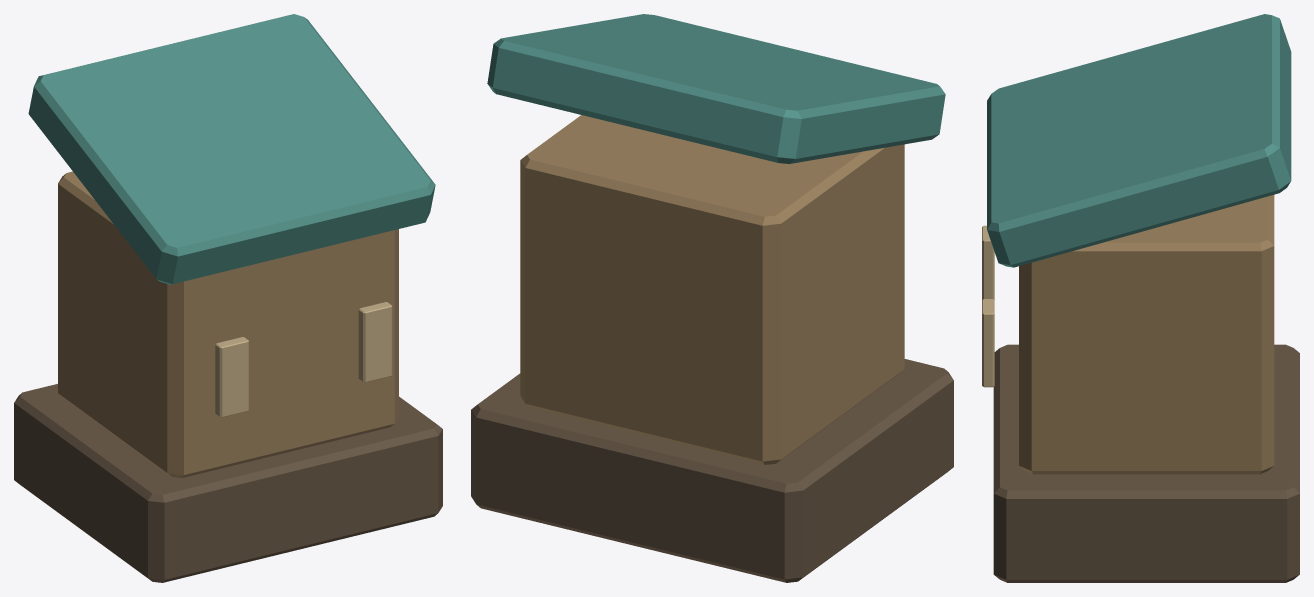
The model's file is rune-console.glb.
3 views of the same model, side by side, from view 1: azimuth 30°, elevation 25°; view 2: azimuth 150°, elevation 25°; view 3: azimuth 270°, elevation 25° (orthographic). The views are drawn at different scales.
Visible parts, largest first — view 1: rune-console__body; view 2: rune-console__body; view 3: rune-console__body.
Boxes of the visible parts, x1=… form: rune-console__body: x1=14, y1=14, x2=442, y2=582; rune-console__body: x1=471, y1=14, x2=953, y2=582; rune-console__body: x1=982, y1=14, x2=1299, y2=582.
Bounding box in the file's own units: 0.7 × 0.9305 × 0.6225.
